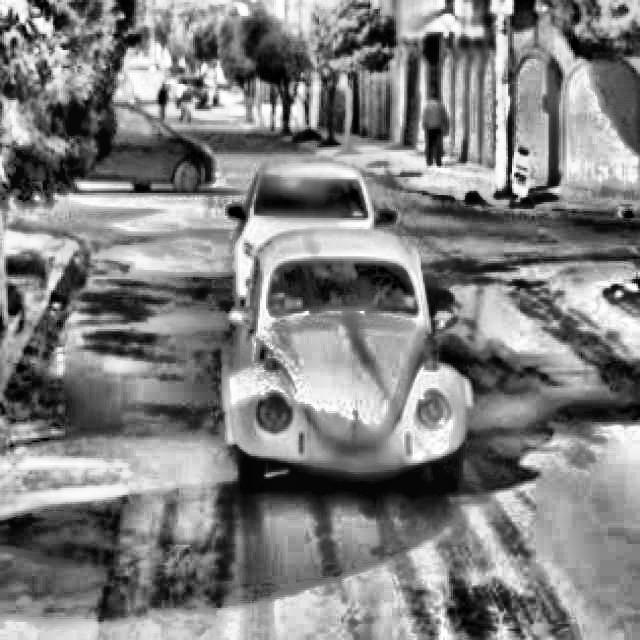carro: (244, 230, 462, 514), (252, 150, 384, 247)
